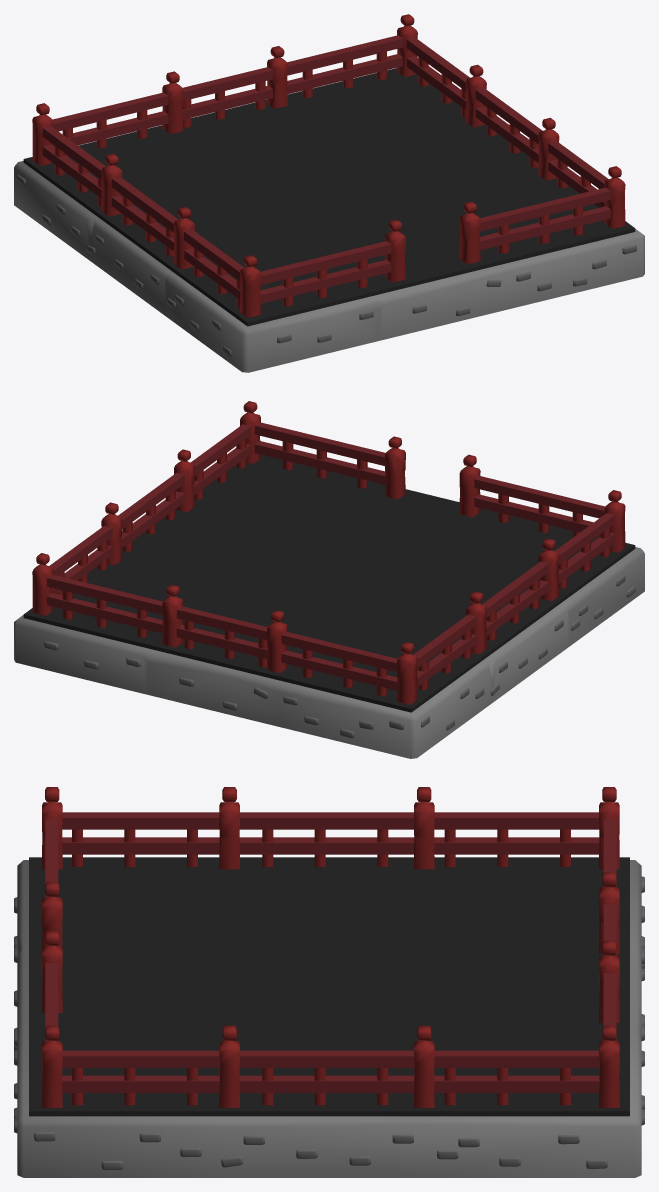
The model's file is Building_LV0_1 Asia.fbx.
The picture shows the model from 3 angles, top to bottom: view 1: azimuth 30°, elevation 25°; view 2: azimuth 150°, elevation 25°; view 3: azimuth 270°, elevation 25°; orthographic projection. The views are drawn at different scales.
Visible parts, largest first — view 1: Building_LV0_1; view 2: Building_LV0_1; view 3: Building_LV0_1.
Boxes of the visible parts, x1,y1,x2,y2 form: Building_LV0_1: [14, 14, 644, 372]; Building_LV0_1: [14, 401, 644, 758]; Building_LV0_1: [14, 787, 644, 1177].
Bounding box in the file's own units: 703 × 169 × 704.
